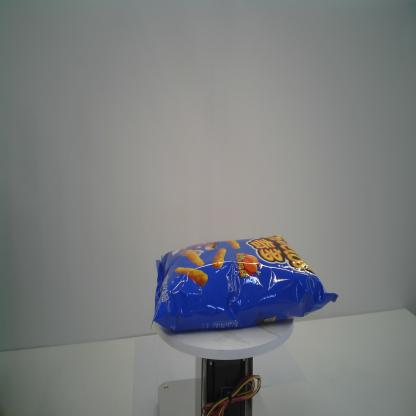Puffed Food: (150, 235, 340, 334)
